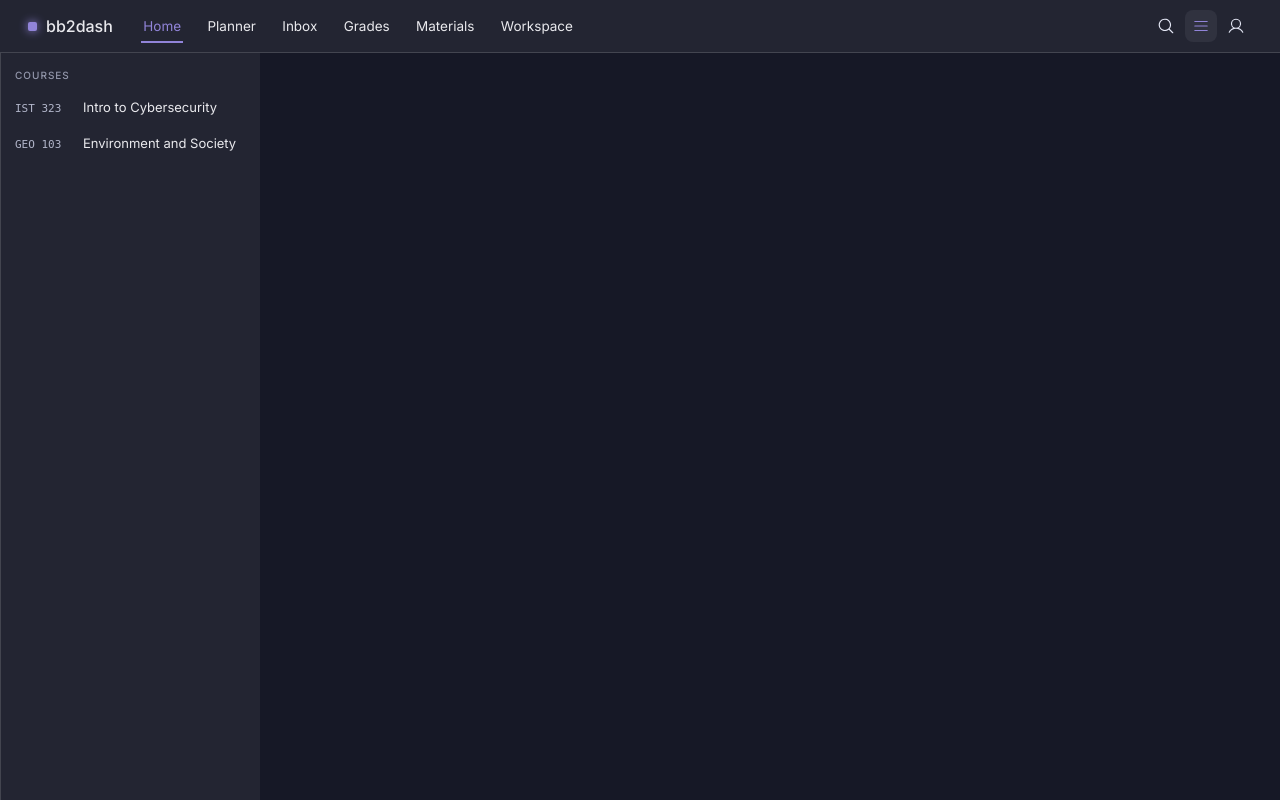
Scenario: TopNav — the account menu (usePopover, reshaped in Phase 17) › stays open for a press inside it and closes for a press outside it
Click the button named "Account".
click(1236, 26)  # box [1220,10,1252,42]
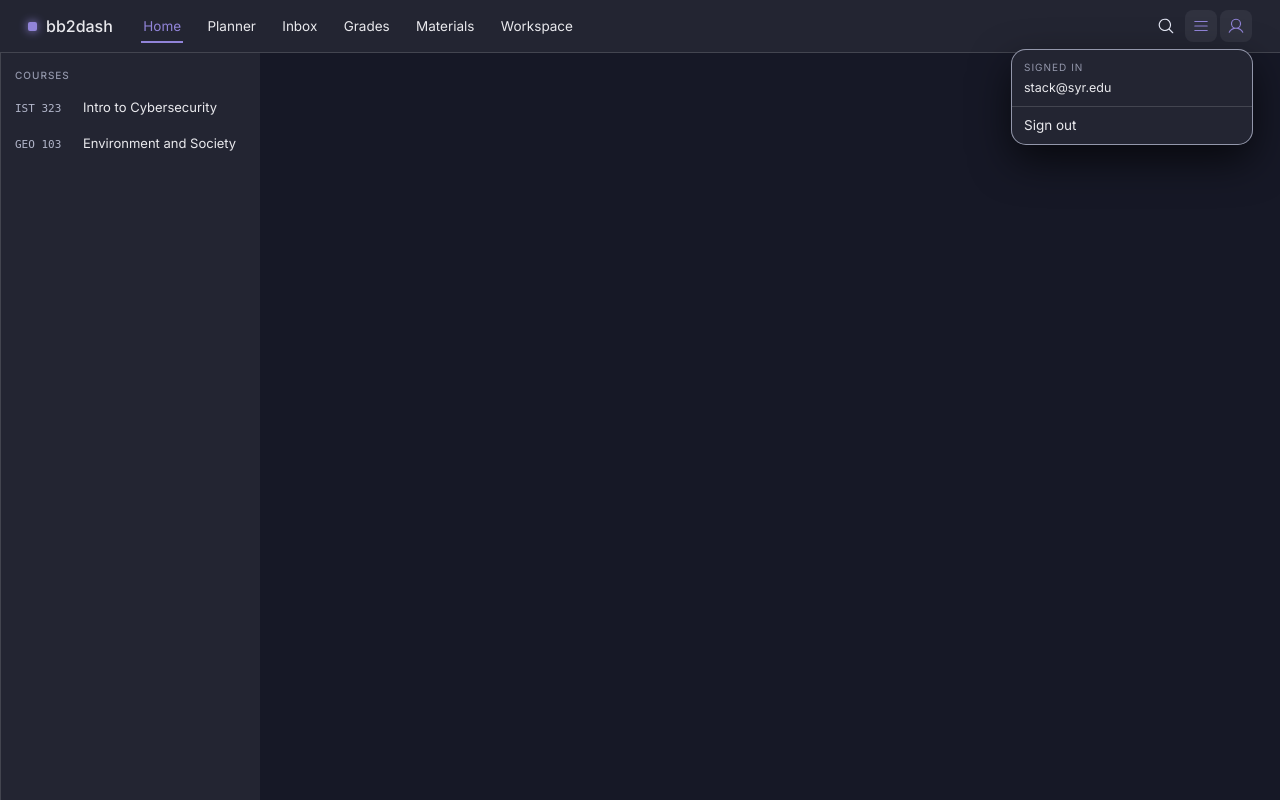
Press the mouse on the menu item "Sign out" at (1132, 126), box [1012,107,1252,144]
Expected: the button named "Account" is expanded, [1220,10,1252,42]
Press the mouse on the element showing "bb2dash Home Planner Inbox Grades Materials Workspace" at (640, 400), box [0,0,1279,799]
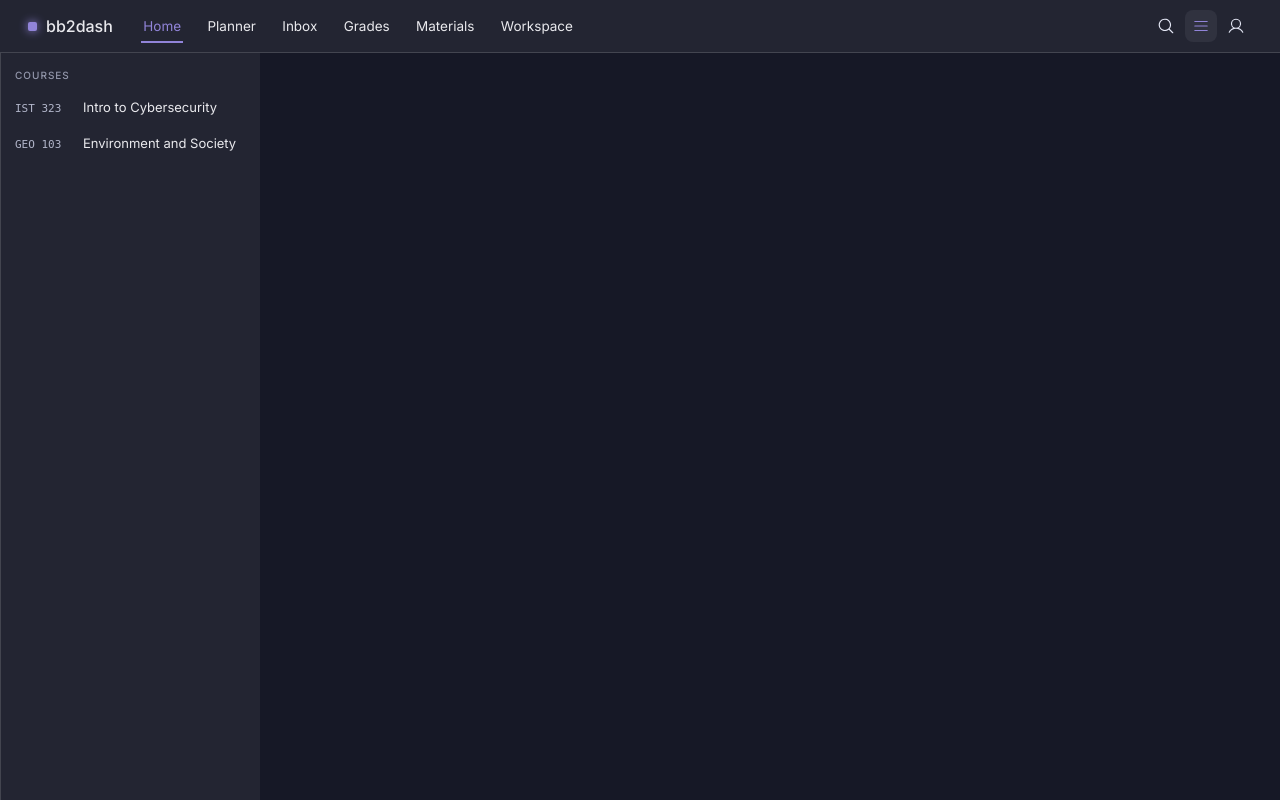
Expected: the button named "Account" is collapsed, [1220,10,1252,42]
Expected: the menu item "Sign out" is gone
